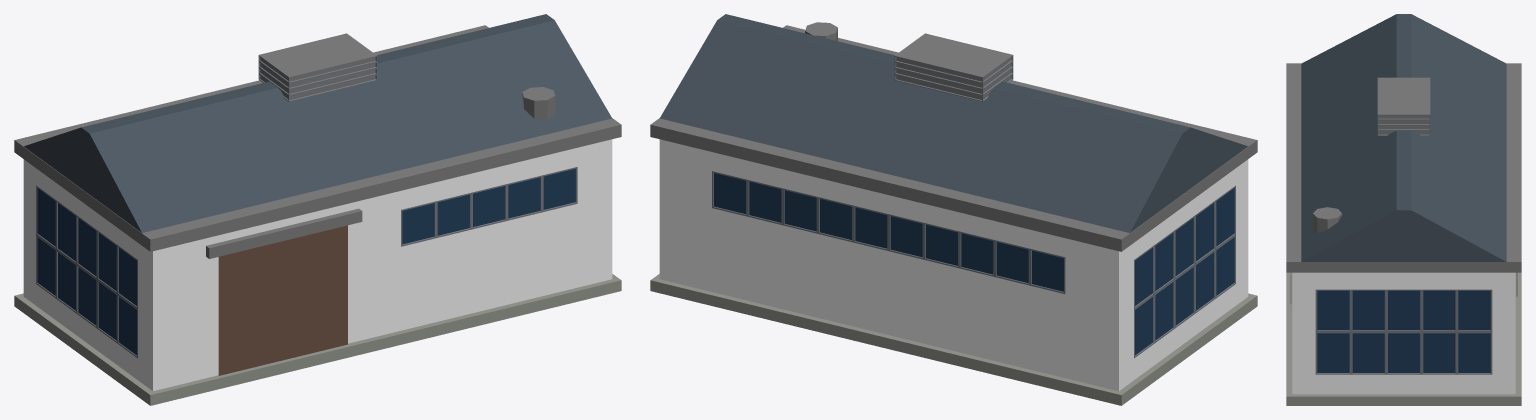
Rendered from mashup-machine-mid-prebuilt_close.fbx.
3 views of the same model, side by side, from view 1: azimuth 30°, elevation 25°; view 2: azimuth 150°, elevation 25°; view 3: azimuth 270°, elevation 25° (orthographic). The views are drawn at different scales.
Parts seen in each view (by area): view 1: a1056.Warehouse.001; view 2: a1056.Warehouse.001; view 3: a1056.Warehouse.001.
Part boxes in pixels (x1,y1,x2,y2): a1056.Warehouse.001: (14, 14, 621, 405); a1056.Warehouse.001: (650, 14, 1257, 405); a1056.Warehouse.001: (1286, 14, 1521, 405).
Bounding box in the file's own units: 16 × 7.9 × 8.
